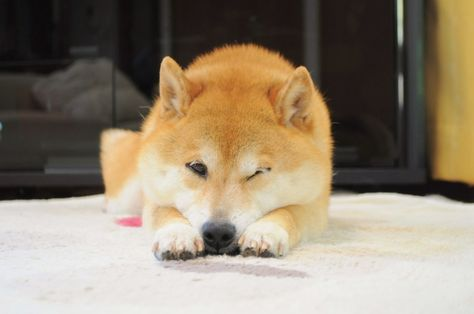doge: (125, 46, 334, 276)
